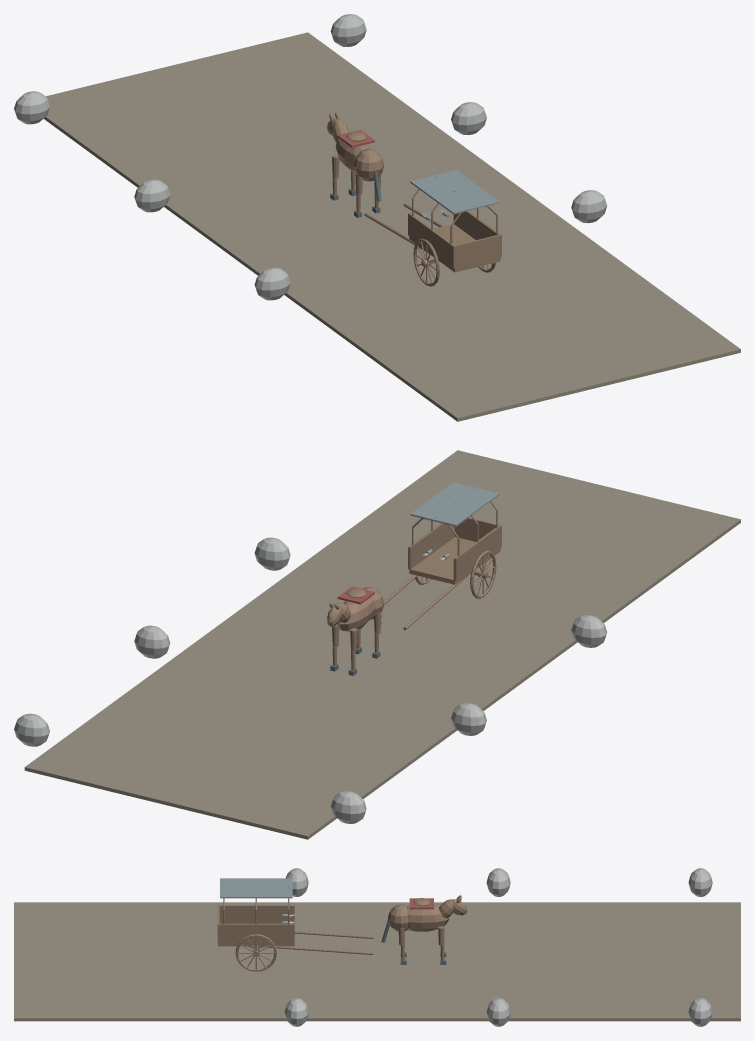
The picture shows the model from 3 angles, top to bottom: view 1: azimuth 30°, elevation 25°; view 2: azimuth 150°, elevation 25°; view 3: azimuth 270°, elevation 25°; orthographic projection. The views are drawn at different scales.
Visible parts, largest first — view 1: roadbed (×6), rock (×6), canvas_roof, rear_board, left_rail, bed, hindquarters, right_rail; view 2: roadbed (×6), rock (×6), canvas_roof, bed, left_rail, right_rail, barrel, rear_board; view 3: roadbed (×6), rock (×6), canvas_roof, right_rail, left_rail, barrel, hindquarters, rim, shaft.
Boxes of the visible parts, bbox=[...] form: roadbed (×6): bbox=[43, 32, 740, 421]; rock (×6): bbox=[14, 14, 607, 300]; canvas_roof: bbox=[410, 170, 499, 214]; rear_board: bbox=[455, 234, 500, 268]; left_rail: bbox=[408, 212, 454, 268]; bed: bbox=[409, 224, 500, 272]; hindquarters: bbox=[353, 148, 384, 181]; right_rail: bbox=[453, 211, 501, 256]; roadbed (×6): bbox=[24, 450, 740, 839]; rock (×6): bbox=[14, 537, 607, 823]; canvas_roof: bbox=[410, 482, 499, 526]; bed: bbox=[409, 537, 500, 584]; left_rail: bbox=[453, 525, 501, 580]; right_rail: bbox=[408, 523, 454, 569]; barrel: bbox=[337, 597, 375, 631]; rear_board: bbox=[455, 517, 499, 541]; roadbed (×6): bbox=[14, 902, 740, 1021]; rock (×6): bbox=[284, 868, 712, 1026]; canvas_roof: bbox=[220, 878, 292, 898]; right_rail: bbox=[218, 923, 294, 942]; left_rail: bbox=[218, 905, 294, 923]; barrel: bbox=[407, 905, 449, 931]; hindquarters: bbox=[388, 904, 407, 931]; rim: bbox=[235, 934, 276, 971]; shaft: bbox=[268, 946, 373, 954].
Size of the model in its own units: 8.4 by 2.08 by 18.
